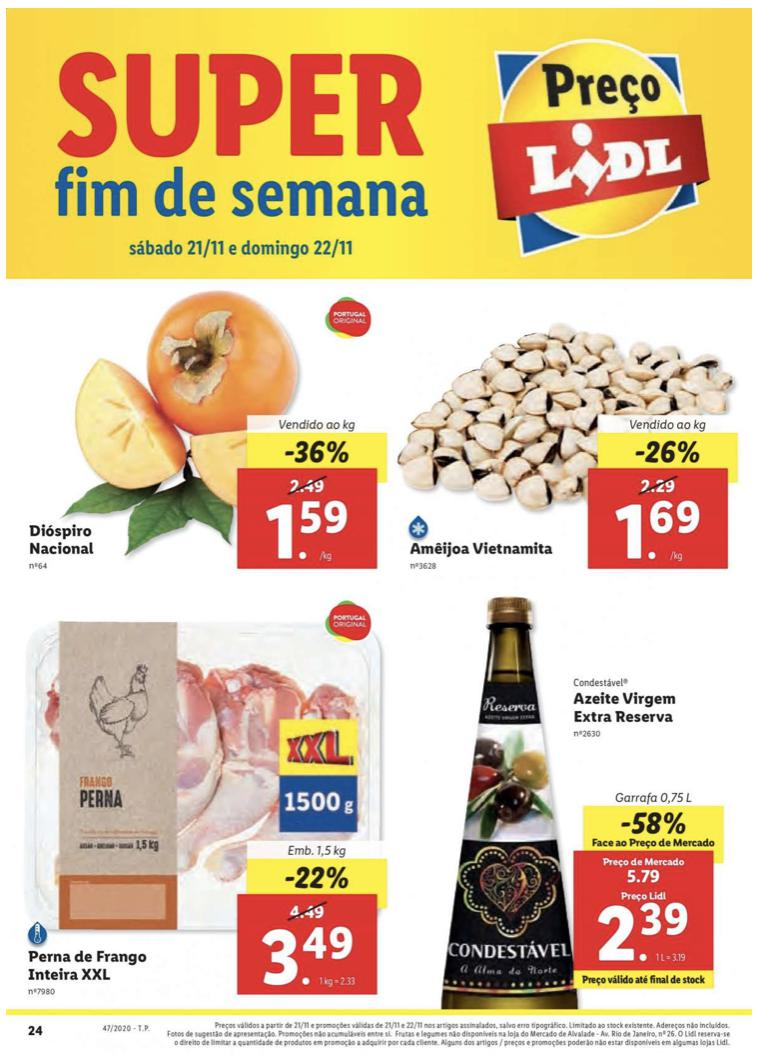name: (19, 946, 149, 984), (568, 688, 684, 728), (407, 539, 556, 562), (23, 519, 99, 559)
price: (573, 889, 717, 972), (583, 492, 732, 572), (235, 920, 379, 994), (236, 494, 379, 568)
product: (10, 601, 427, 1013), (427, 589, 739, 1013), (9, 283, 381, 578), (381, 311, 748, 578)
promotion: (630, 433, 707, 470), (279, 435, 353, 467), (279, 861, 352, 893), (617, 807, 690, 839)
